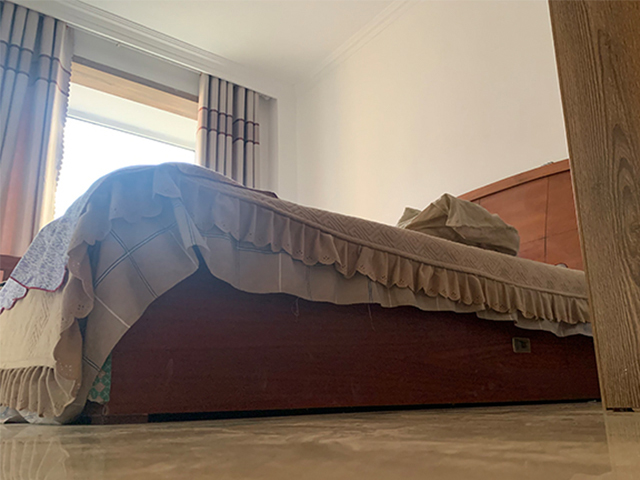bed: (1, 159, 608, 426)
curtain: (1, 1, 75, 264), (193, 68, 261, 190)
